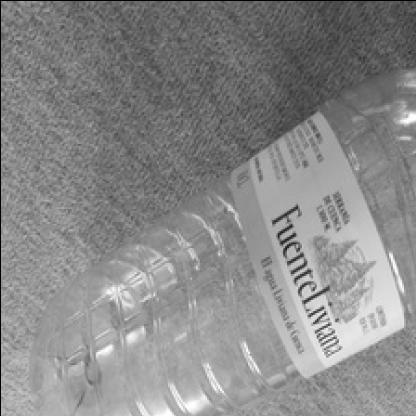plastic_bottles: (34, 61, 416, 414)
